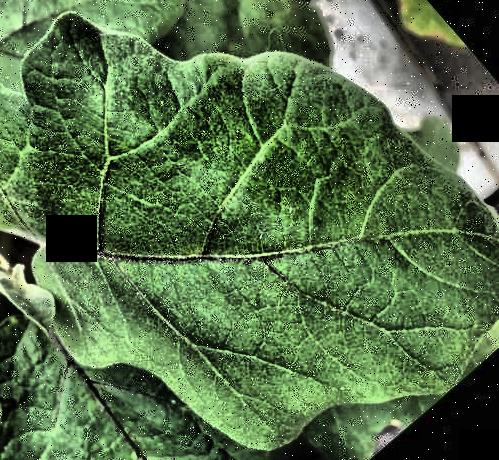HEALTHY: (0, 1, 499, 460)
